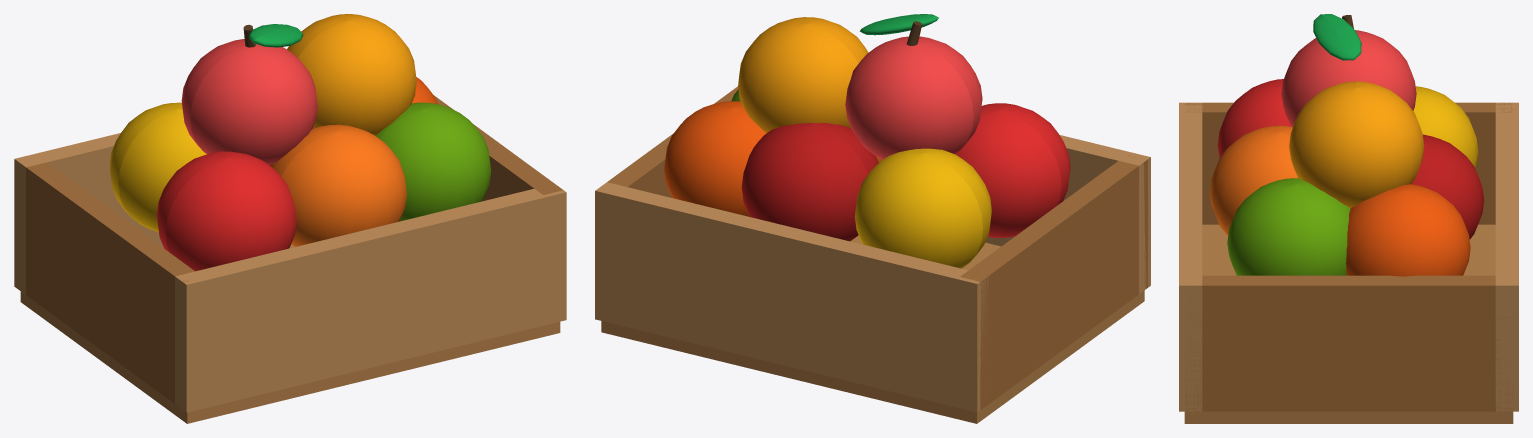
The model's file is fruit-basket.glb.
The picture shows the model from 3 angles, left to right: view 1: azimuth 30°, elevation 25°; view 2: azimuth 150°, elevation 25°; view 3: azimuth 270°, elevation 25°; orthographic projection. The views are drawn at different scales.
Visible parts, largest first — view 1: Basket_Front, Basket_Left, Fruit_Top_L, Fruit_01, Fruit_02, Fruit_Top_R, Fruit_03, Fruit_04, Basket_Base, Basket_Back, Basket_Right, Leaf_01; view 2: Basket_Back, Basket_Left, Fruit_Top_L, Fruit_04, Fruit_05, Fruit_Top_R, Fruit_01, Fruit_06, Basket_Base, Basket_Front, Basket_Right, Leaf_01; view 3: Basket_Right, Fruit_Top_R, Fruit_03, Fruit_06, Basket_Front, Basket_Back, Basket_Base, Fruit_Top_L, Fruit_02, Basket_Left, Fruit_05, Fruit_01 (+2 smaller).
Part boxes in pixels (left/top/right/bottom): Basket_Front: left=175, top=188, right=566, bottom=412; Basket_Left: left=26, top=162, right=194, bottom=403; Fruit_Top_L: left=181, top=39, right=317, bottom=165; Fruit_01: left=156, top=151, right=296, bottom=271; Fruit_02: left=271, top=124, right=406, bottom=246; Fruit_Top_R: left=287, top=14, right=416, bottom=135; Fruit_03: left=376, top=102, right=491, bottom=221; Fruit_04: left=109, top=102, right=206, bottom=232; Basket_Base: left=20, top=244, right=560, bottom=423; Basket_Back: left=14, top=133, right=163, bottom=294; Basket_Right: left=434, top=95, right=563, bottom=201; Leaf_01: left=248, top=24, right=303, bottom=47; Basket_Back: left=595, top=182, right=988, bottom=412; Basket_Left: left=960, top=155, right=1147, bottom=410; Fruit_Top_L: left=845, top=36, right=982, bottom=159; Fruit_04: left=854, top=148, right=991, bottom=268; Fruit_05: left=741, top=123, right=878, bottom=241; Fruit_Top_R: left=738, top=17, right=868, bottom=132; Fruit_01: left=955, top=103, right=1070, bottom=237; Fruit_06: left=664, top=101, right=766, bottom=216; Basket_Base: left=601, top=235, right=1144, bottom=423; Basket_Front: left=985, top=135, right=1150, bottom=293; Basket_Right: left=607, top=86, right=738, bottom=197; Leaf_01: left=859, top=14, right=938, bottom=35; Basket_Right: left=1185, top=275, right=1513, bottom=411; Fruit_Top_R: left=1289, top=81, right=1424, bottom=208; Fruit_03: left=1227, top=178, right=1350, bottom=275; Fruit_06: left=1346, top=184, right=1470, bottom=276; Basket_Front: left=1179, top=102, right=1202, bottom=411; Basket_Back: left=1495, top=102, right=1518, bottom=411; Basket_Base: left=1184, top=224, right=1513, bottom=423; Fruit_Top_L: left=1281, top=30, right=1416, bottom=126; Fruit_02: left=1210, top=125, right=1297, bottom=235; Basket_Left: left=1185, top=102, right=1512, bottom=224; Fruit_05: left=1411, top=134, right=1484, bottom=239; Fruit_01: left=1217, top=79, right=1290, bottom=157.
Bounding box in the file's own units: 0.224 × 0.1704 × 0.176.
